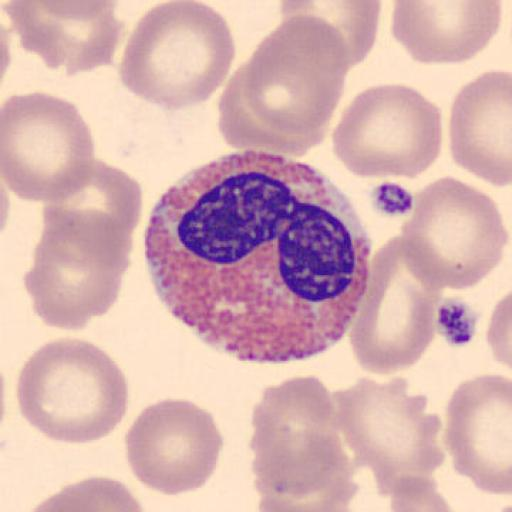RBC: (220, 14, 350, 158), (246, 373, 357, 511), (334, 372, 447, 498), (348, 233, 440, 376), (119, 0, 236, 111), (14, 335, 130, 446), (400, 174, 509, 291), (217, 50, 333, 159), (23, 214, 129, 332), (40, 157, 144, 268), (248, 13, 351, 121), (331, 82, 444, 180), (2, 90, 96, 203), (124, 397, 224, 497), (4, 0, 124, 76), (443, 371, 512, 497), (448, 68, 512, 188), (390, 0, 503, 66), (278, 0, 383, 69), (254, 451, 358, 512), (17, 474, 149, 512), (254, 469, 358, 512), (254, 482, 355, 512), (387, 472, 457, 512), (485, 286, 512, 374), (34, 0, 120, 23), (0, 5, 13, 88), (0, 167, 11, 242)
WBC: (142, 155, 371, 364)
